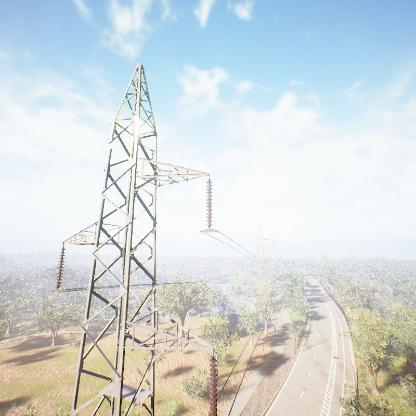tower: (53, 61, 221, 416)
